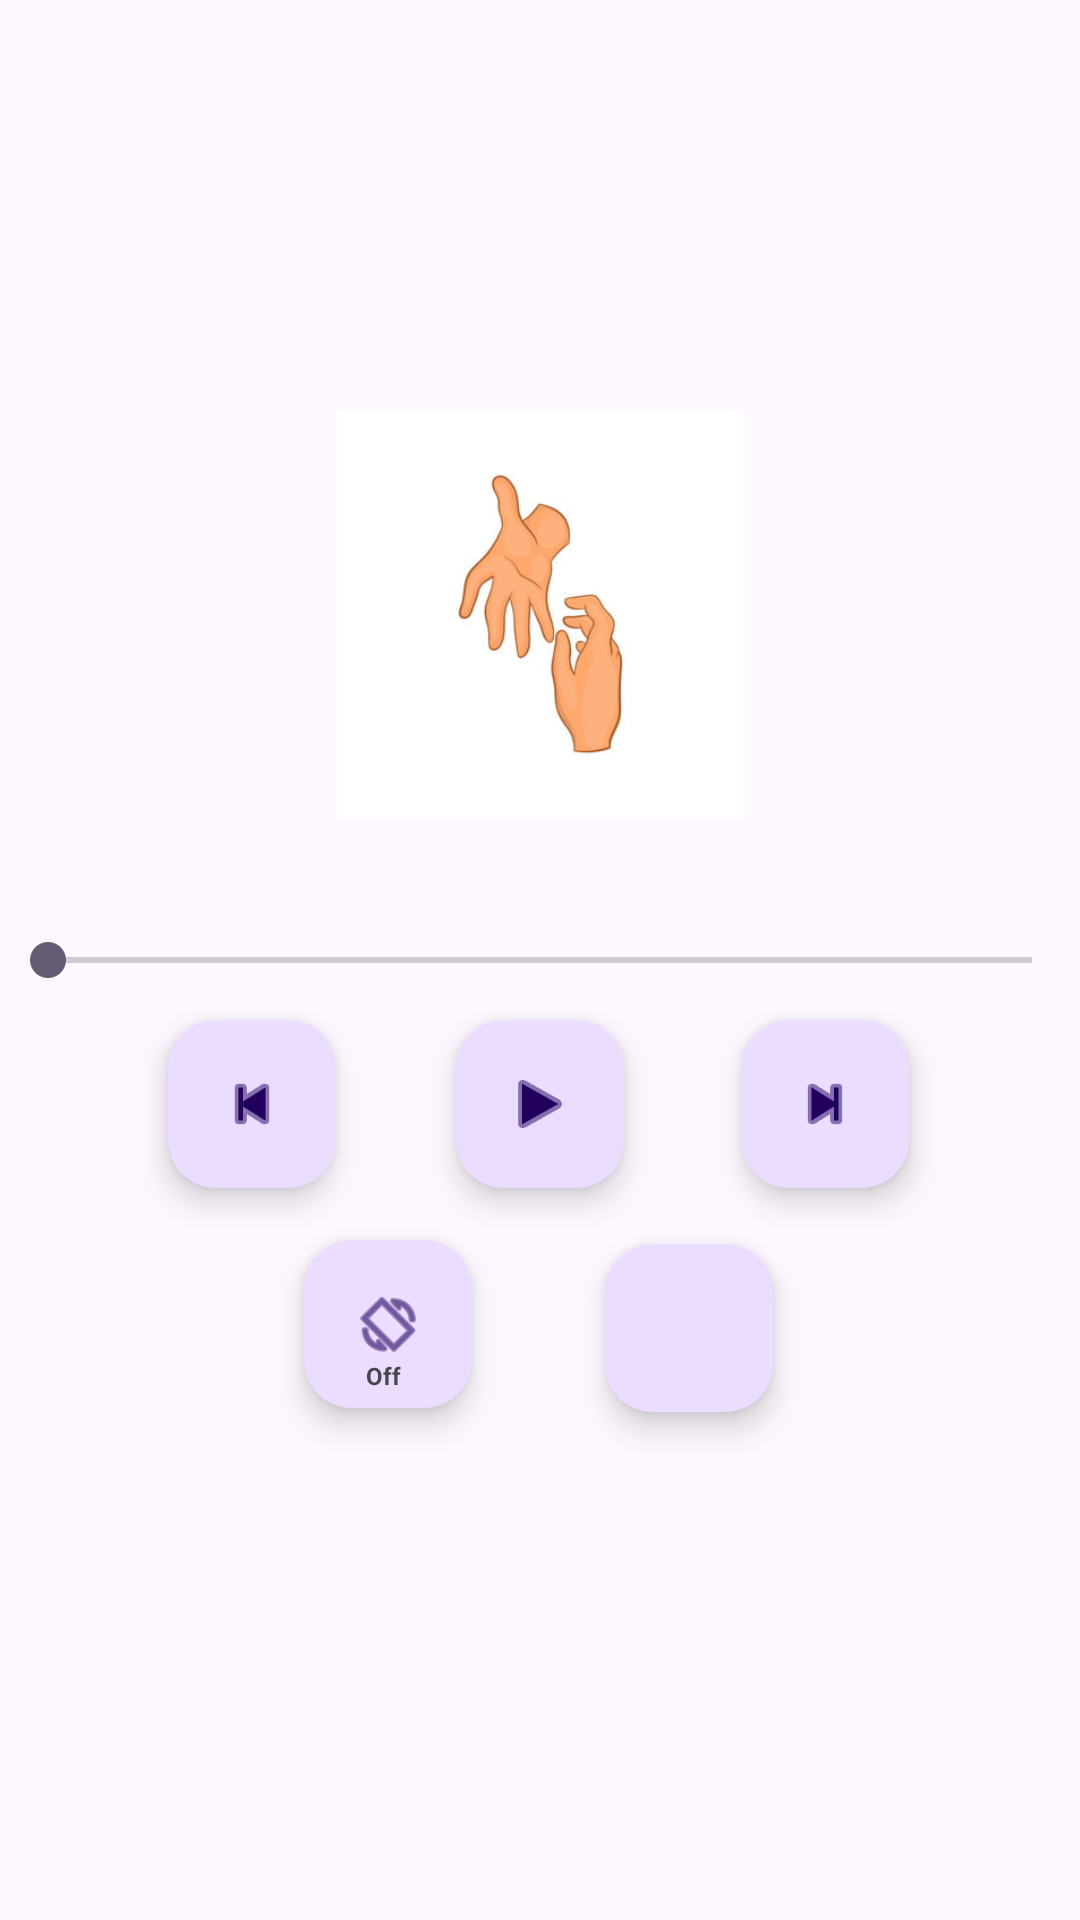

Named icons in this screenshot (1080w x 1920h) and their centers, (x=x, y=y):
back button: (x=252, y=1104)
forward button: (x=825, y=1104)
play button: (x=540, y=1104)
